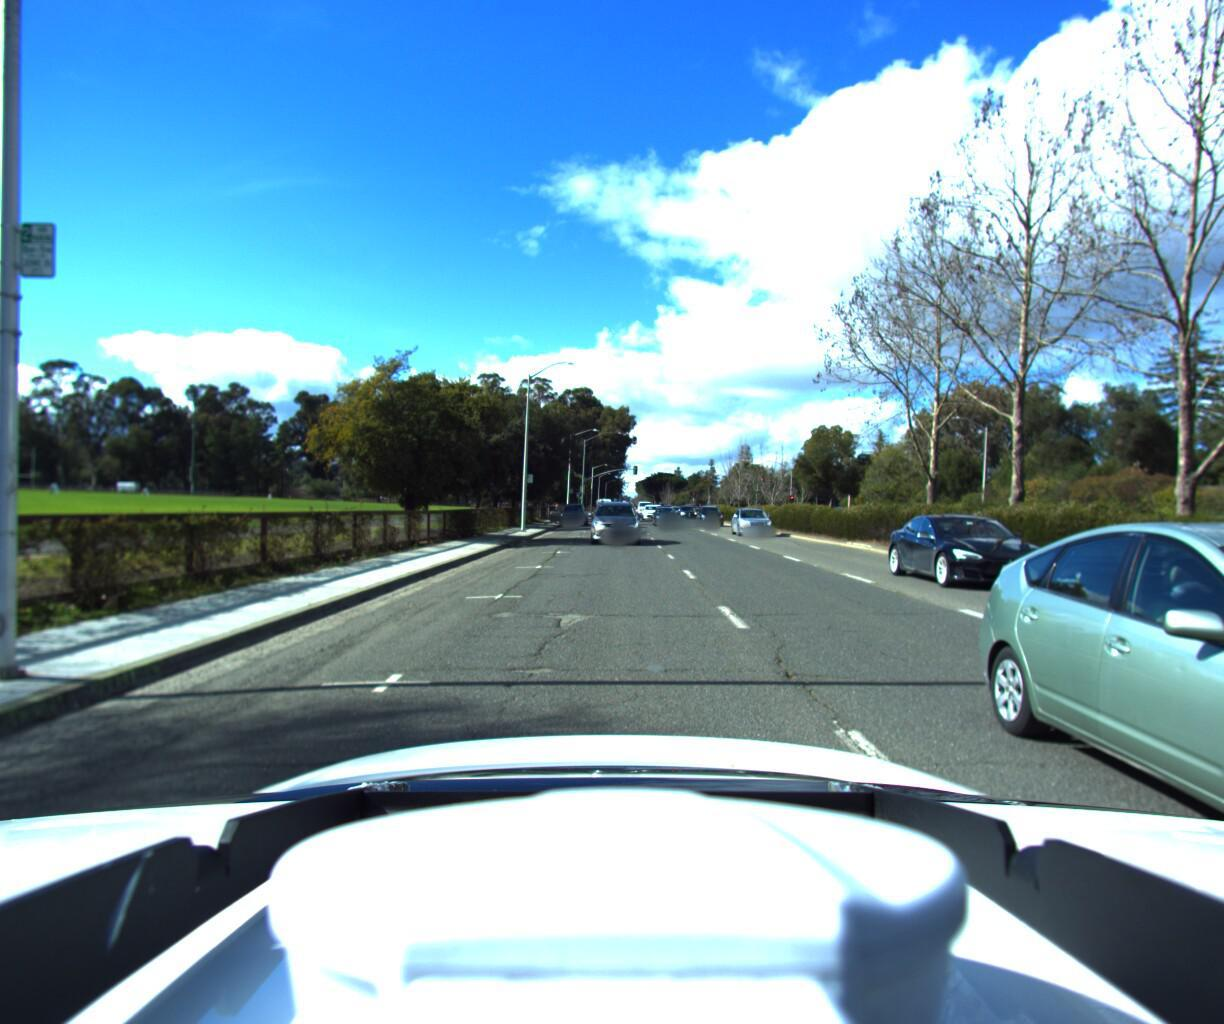car: (1059, 523, 1224, 1024), (890, 513, 1112, 609), (589, 496, 641, 544), (734, 509, 782, 540), (697, 503, 728, 527), (559, 502, 586, 526), (677, 509, 701, 524), (642, 505, 662, 521)
